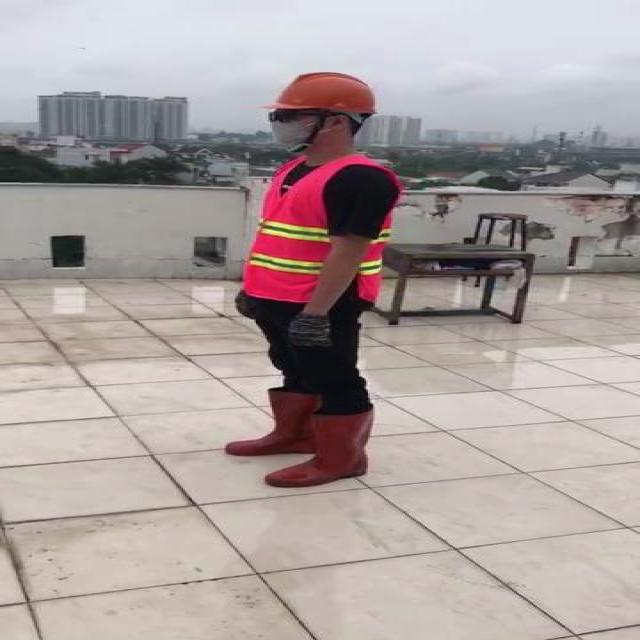boots: (262, 405, 376, 489), (226, 388, 314, 458)
face_mask: (268, 107, 312, 145)
glasses: (262, 107, 314, 127)
hand_glove: (288, 313, 345, 351)
head_helmet: (270, 70, 382, 113)
person: (220, 68, 410, 483)
vest: (240, 155, 407, 300)
